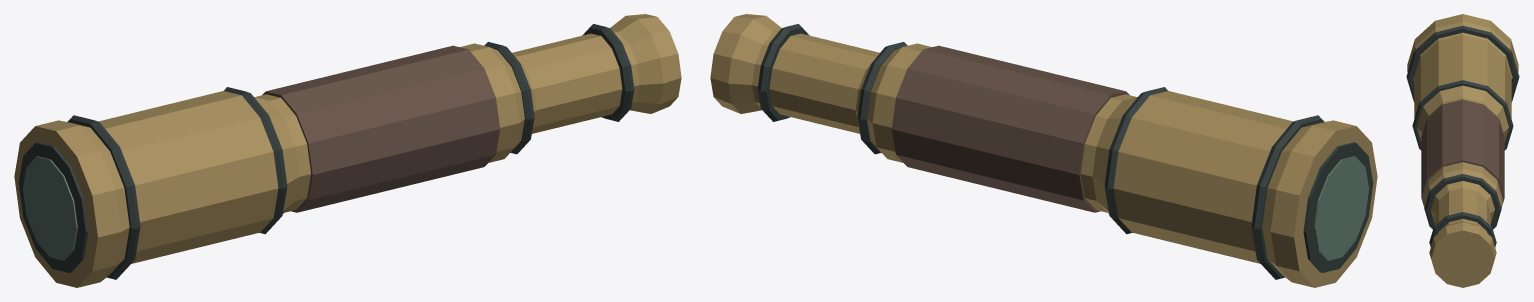
File: SWP_BrassSpyglass.fbx
3 views of the same model, side by side, from view 1: azimuth 30°, elevation 25°; view 2: azimuth 150°, elevation 25°; view 3: azimuth 270°, elevation 25° (orthographic). The views are drawn at different scales.
Parts seen in each view (by area): view 1: SWP_BrassSpyglass; view 2: SWP_BrassSpyglass; view 3: SWP_BrassSpyglass.
Boxes of the visible parts, x1,y1,x2,y2 form: SWP_BrassSpyglass: (14, 14, 681, 287); SWP_BrassSpyglass: (710, 14, 1377, 287); SWP_BrassSpyglass: (1406, 14, 1519, 287).
Bounding box in the file's own units: 0.47 × 0.114 × 0.114.
